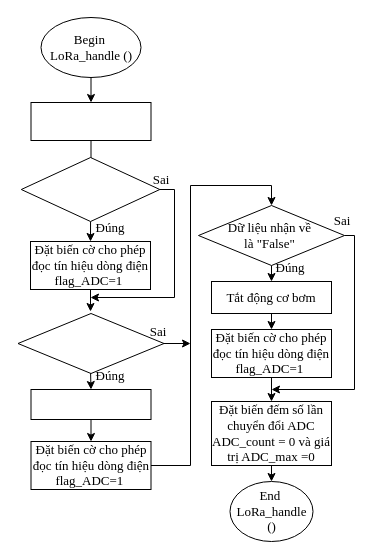
Some shapes in this 380 by 559 pixel diagram are drawn without their labels. Each missing label, with the centre of its shape:
Bật động cơ bơm: the point at 90,404
Dữ liệu nhận về là "Node 2": the point at 90,189
Dữ liệu nhận về là "True": the point at 90,343
Đọc dữ liệu gói tin LoRa: the point at 90,121
